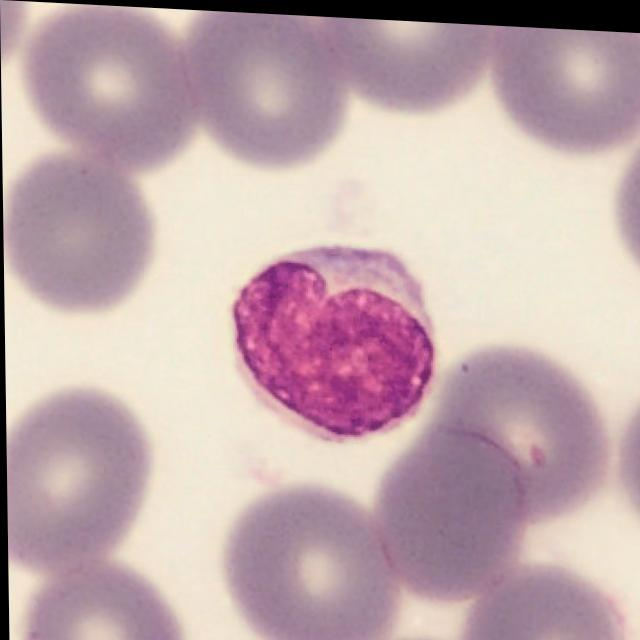Linfocito: (232, 240, 437, 438)
